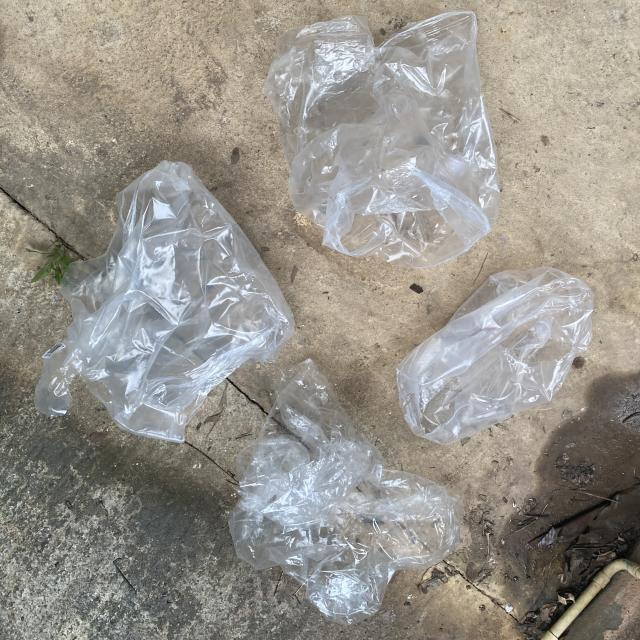Single-layer Plastic: (35, 161, 294, 442), (229, 360, 461, 624), (262, 12, 499, 268), (396, 266, 594, 445)
